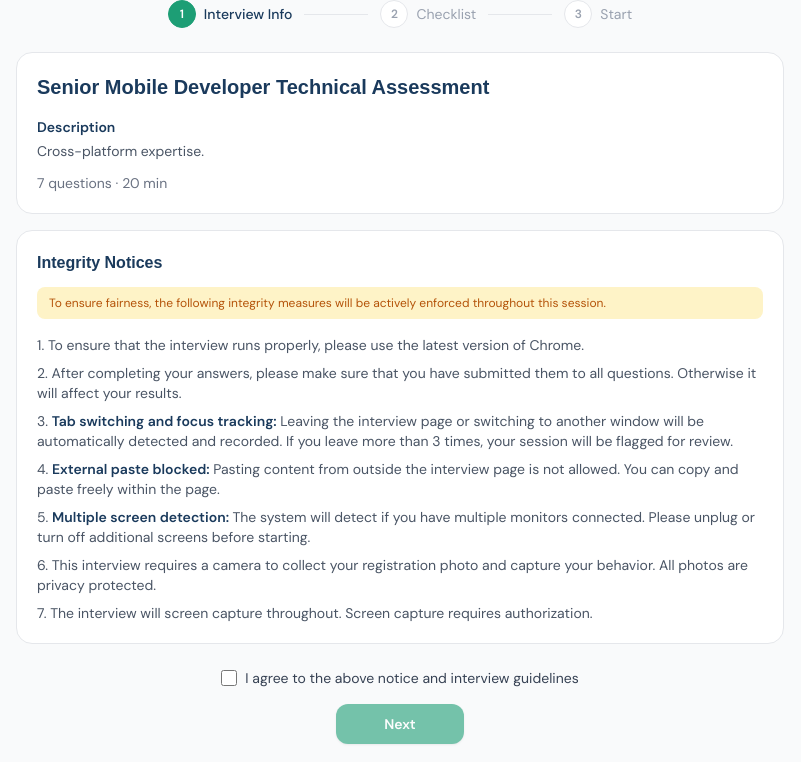
Scenario: Interview Info step › NEGATIVE: Next is disabled until the candidate agrees, and re-disables when un-ticked
expect the button "Next" is disabled: met, box [336,704,464,744]
Click the checkbox at (229, 678), box [221,670,237,686]
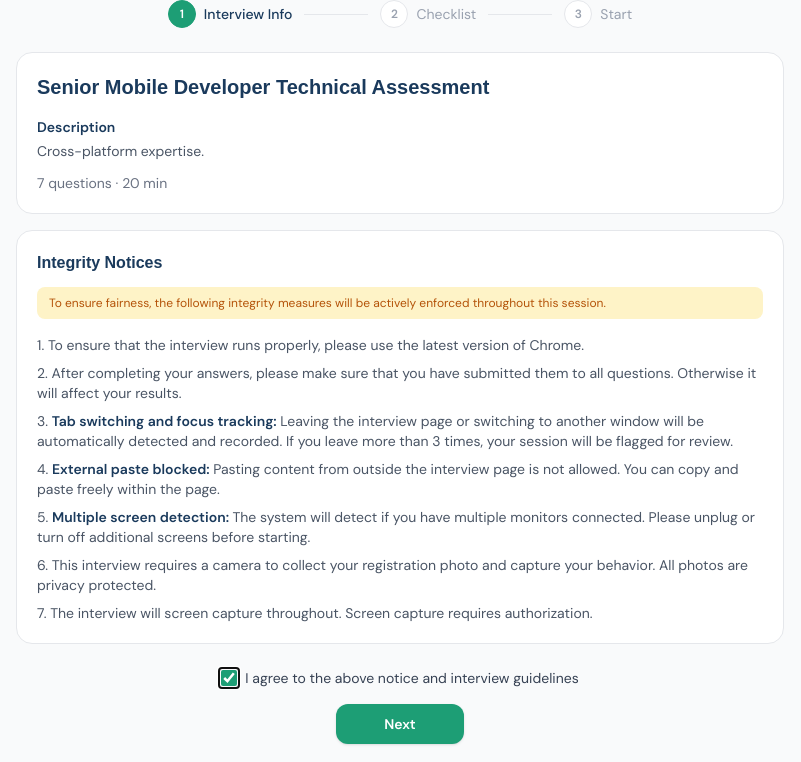
expect the button "Next" is enabled: met, box [336,704,464,744]
Click the checkbox at (229, 678), box [221,670,237,686]
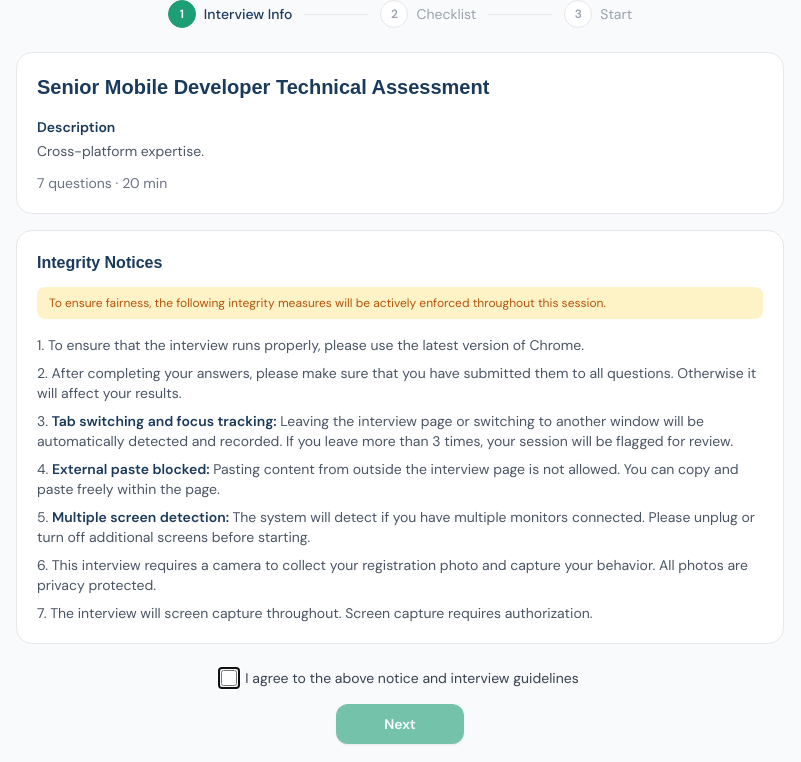
expect the button "Next" is disabled: met, box [336,704,464,744]
